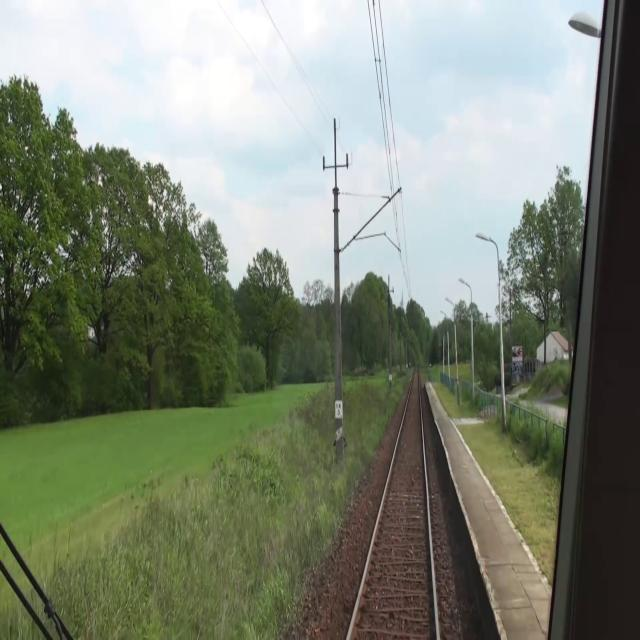rail-track: (351, 372, 435, 639)
